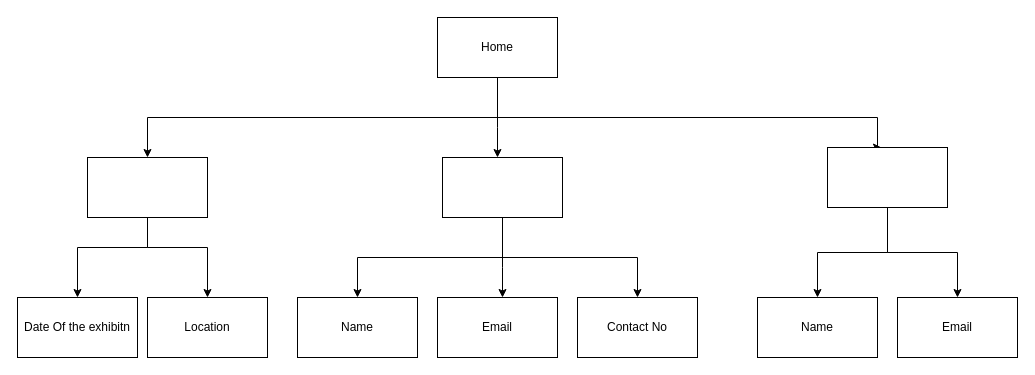
This 1035x375 diagram has some shape labels left out. The shapes that lost their labels are listed below. From the top down, each one's centre as x and y in pixels, then its label:
[147,187]: Exhibition
[502,187]: Artist
[887,177]: Contact Us
